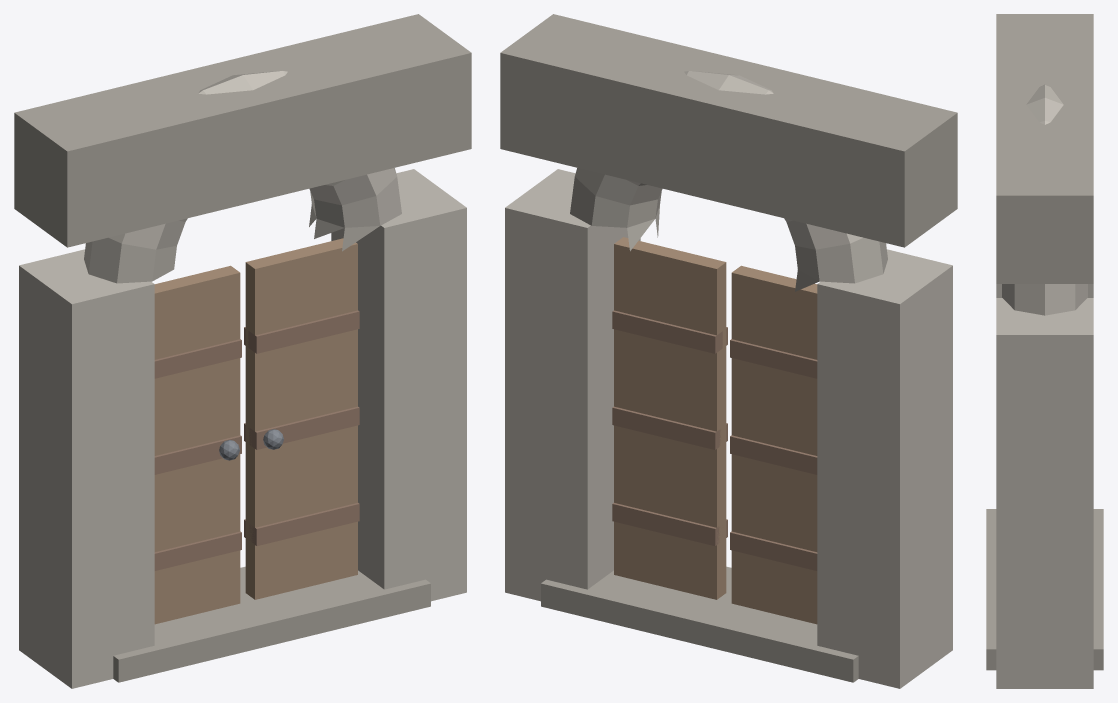
The model's file is kerkoporta.glb.
The picture shows the model from 3 angles, left to right: view 1: azimuth 30°, elevation 25°; view 2: azimuth 150°, elevation 25°; view 3: azimuth 270°, elevation 25°; orthographic projection. The views are drawn at different scales.
Visible parts, largest first — view 1: Kerkoporta, DoorR, DoorL; view 2: Kerkoporta, DoorR, DoorL; view 3: Kerkoporta.
Boxes of the visible parts, x1,y1,x2,y2 form: Kerkoporta: (14, 14, 471, 688); DoorR: (244, 238, 359, 599); DoorL: (154, 265, 241, 624); Kerkoporta: (500, 14, 957, 688); DoorR: (612, 237, 727, 599); DoorL: (730, 265, 817, 624); Kerkoporta: (986, 14, 1103, 688).
Bounding box in the file's own units: 2.2 × 2.84 × 0.6.
